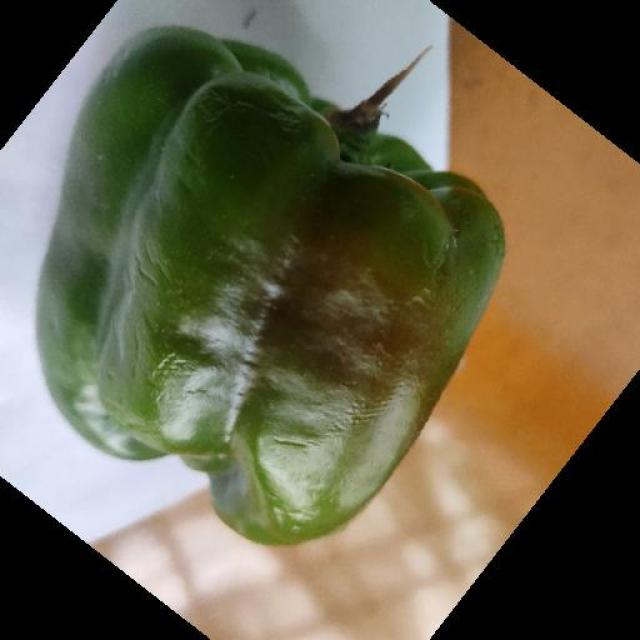Stale_Capsicum: (118, 45, 430, 536)
